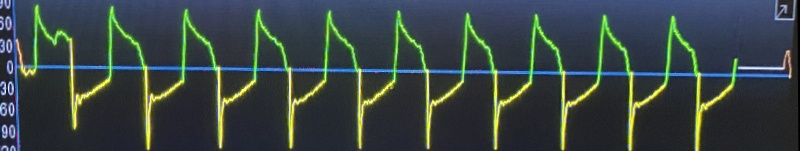peepi: (23, 0, 735, 151)
